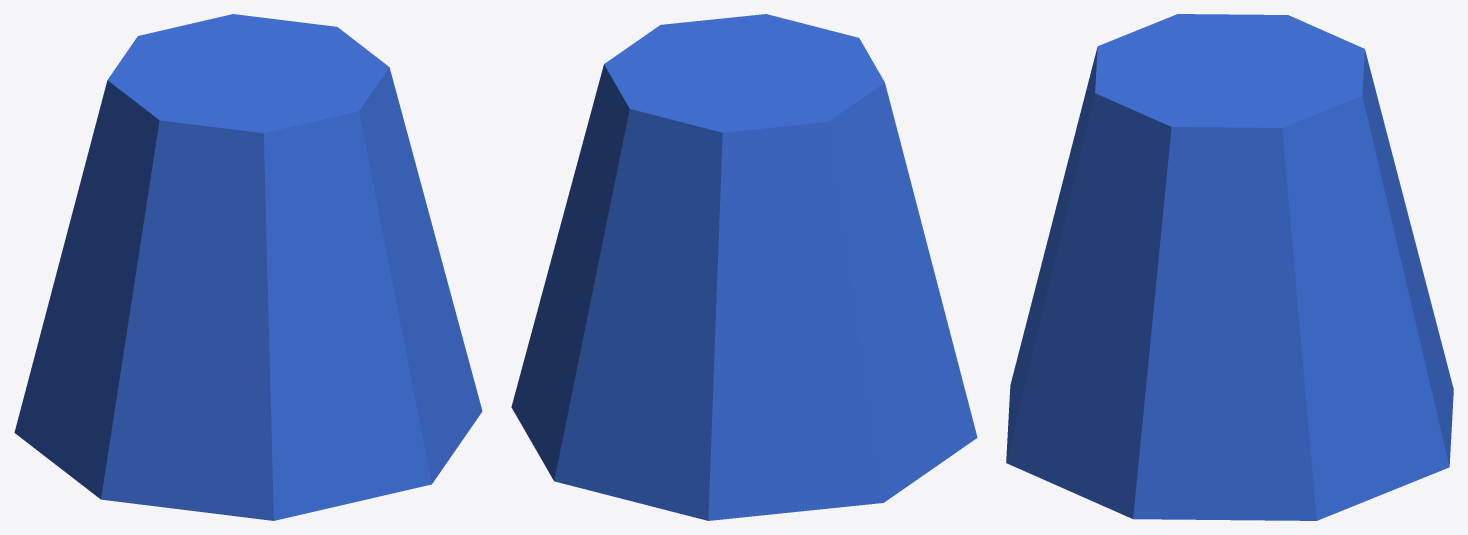
File: Collision_CandleStick.fbx
The picture shows the model from 3 angles, left to right: view 1: azimuth 30°, elevation 25°; view 2: azimuth 150°, elevation 25°; view 3: azimuth 270°, elevation 25°; orthographic projection.
Visible parts, largest first — view 1: UCX_CandleStick_1; view 2: UCX_CandleStick_1; view 3: UCX_CandleStick_1.
Part boxes in pixels (x1,y1,x2,y2): UCX_CandleStick_1: [14, 14, 482, 520]; UCX_CandleStick_1: [511, 14, 977, 520]; UCX_CandleStick_1: [1006, 14, 1453, 520].
Size of the model in its own units: 16.39 by 14.35 by 16.39.
